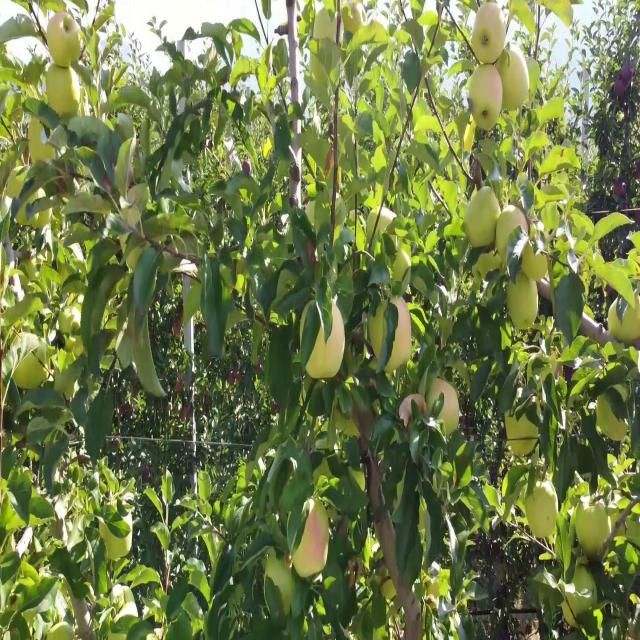apple: (372, 298, 413, 373), (292, 511, 330, 581), (312, 305, 345, 377), (468, 63, 501, 133), (48, 63, 85, 123), (576, 497, 611, 560), (472, 7, 508, 64), (384, 305, 413, 375), (508, 270, 540, 332), (48, 14, 84, 69), (468, 191, 501, 249), (497, 206, 528, 267), (528, 483, 560, 540), (500, 49, 528, 112), (508, 412, 540, 460), (608, 298, 640, 345), (432, 383, 460, 436), (308, 335, 339, 382), (520, 234, 549, 283), (596, 398, 629, 441), (28, 120, 55, 165), (620, 291, 640, 345), (16, 355, 44, 393), (400, 398, 428, 432), (456, 113, 477, 155), (392, 241, 412, 283), (508, 0, 536, 28), (308, 343, 324, 382), (8, 163, 25, 199), (344, 7, 365, 36), (545, 7, 574, 28), (548, 7, 574, 28), (420, 7, 440, 28), (44, 0, 64, 18), (16, 206, 29, 228), (616, 78, 627, 100), (624, 63, 635, 85), (616, 177, 626, 199), (45, 7, 67, 16), (636, 163, 640, 183)
